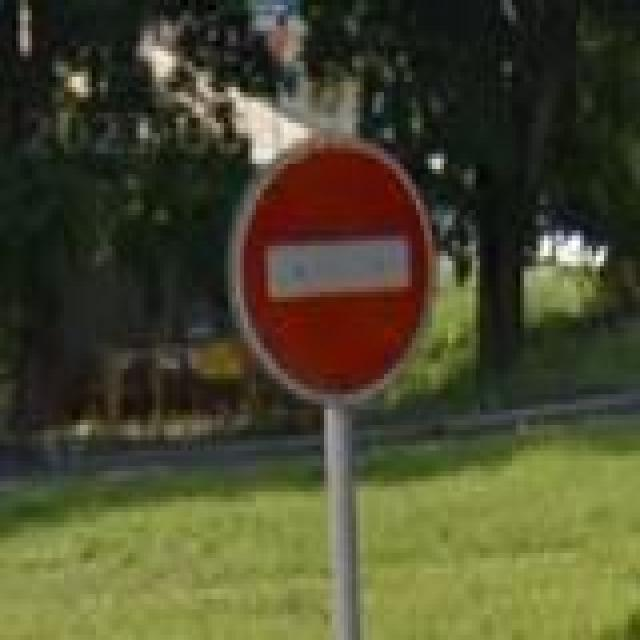do_not_enter: (228, 133, 436, 405)
